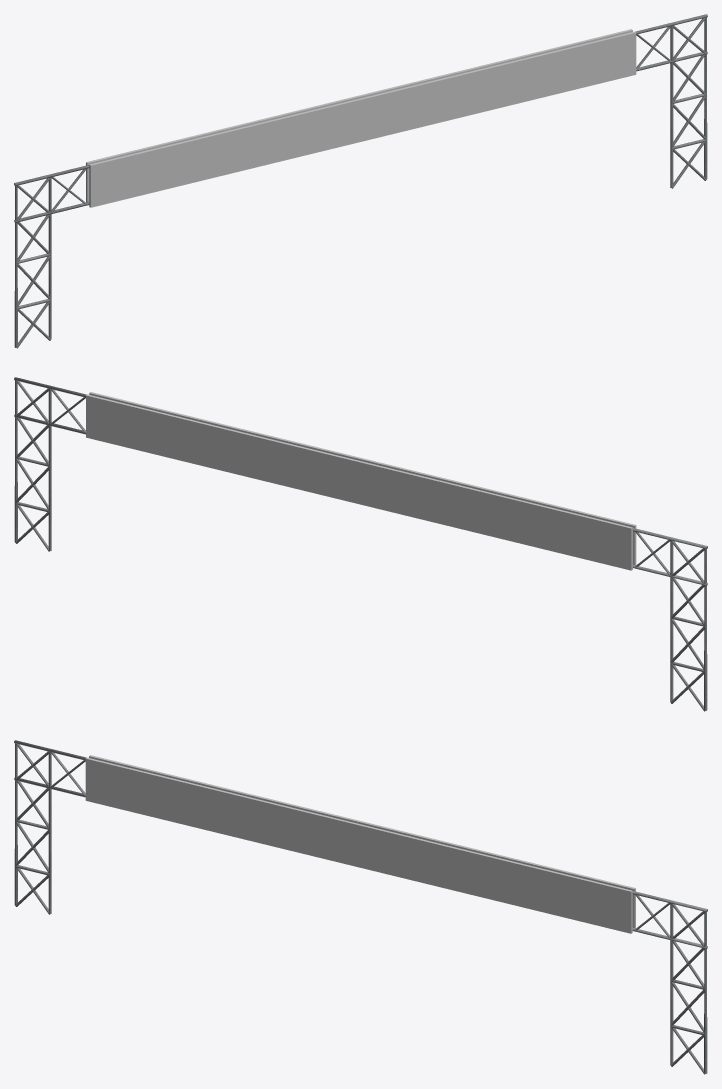
Rendered from OutDoor-D-2.fbx.
3 renders of one model, top to bottom at view 1: azimuth 30°, elevation 25°; view 2: azimuth 150°, elevation 25°; view 3: azimuth 330°, elevation 25°, orthographic.
Visible parts, largest first — view 1: Outdoor-D; view 2: Outdoor-D; view 3: Outdoor-D.
Boxes of the visible parts, <box> form: Outdoor-D: <box>14,14,707,348</box>; Outdoor-D: <box>14,377,707,711</box>; Outdoor-D: <box>14,740,707,1074</box>.
Size of the model in its own units: 4803 by 1111 by 58.55.
